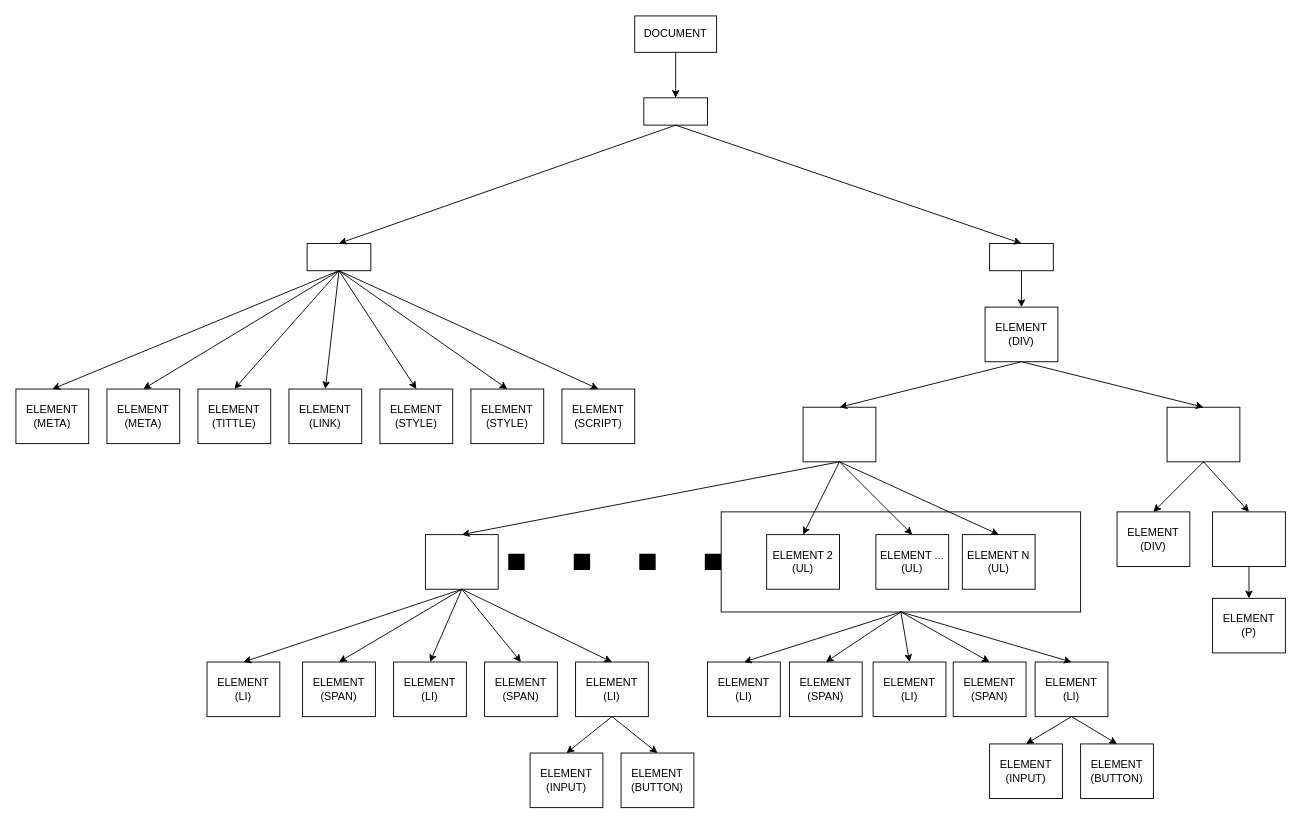
This 1301x824 diagram has some shape labels left out. Each missing label, with the centre of its shape:
"BODY" goes at [1021,257].
"ELEMENT (FOOTER)" goes at [1248,538].
"ELEMENT (HEADER)" goes at [839,434].
"ELEMENT (SECTION)" goes at [1203,434].
"ELEMENT 1 (UL)" goes at [461,561].
"HEAD" goes at [338,257].
"HTML" goes at [675,111].
